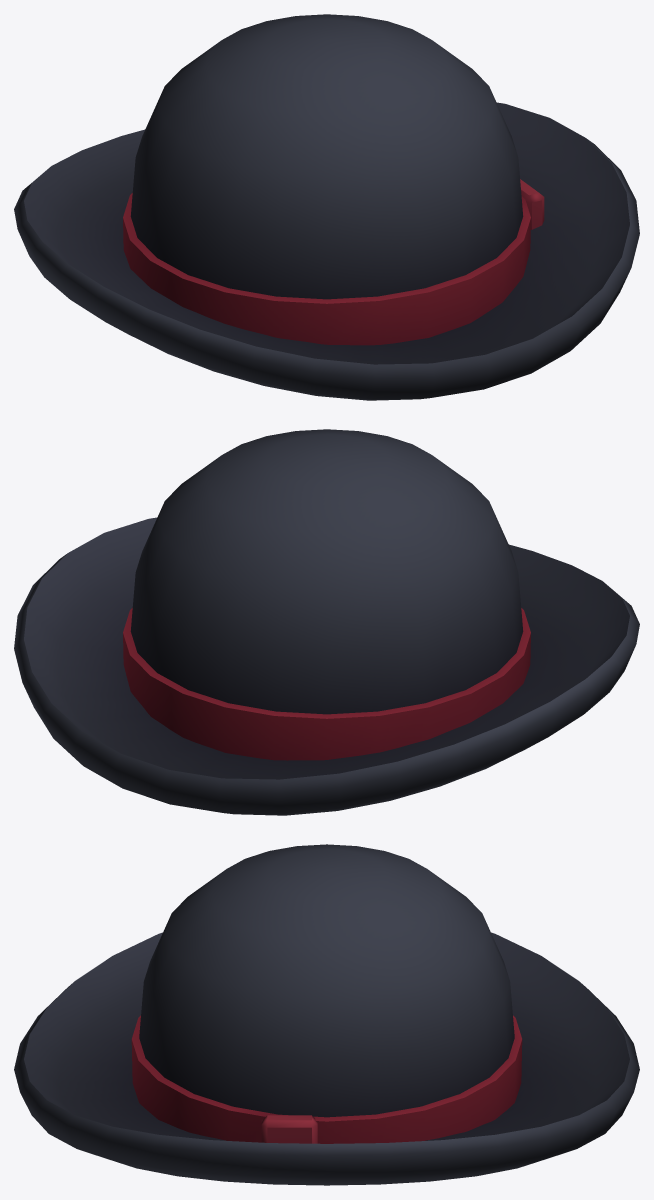
File: bowler.glb
The picture shows the model from 3 angles, top to bottom: view 1: azimuth 30°, elevation 25°; view 2: azimuth 150°, elevation 25°; view 3: azimuth 270°, elevation 25°; orthographic projection. The views are drawn at different scales.
Visible parts, largest first — view 1: bowler; view 2: bowler; view 3: bowler.
Part boxes in pixels (<box>): bowler: <box>14,14,639,400</box>; bowler: <box>14,429,639,815</box>; bowler: <box>14,844,639,1185</box>.
Bounding box in the file's own units: 0.316 × 0.14 × 0.335.
